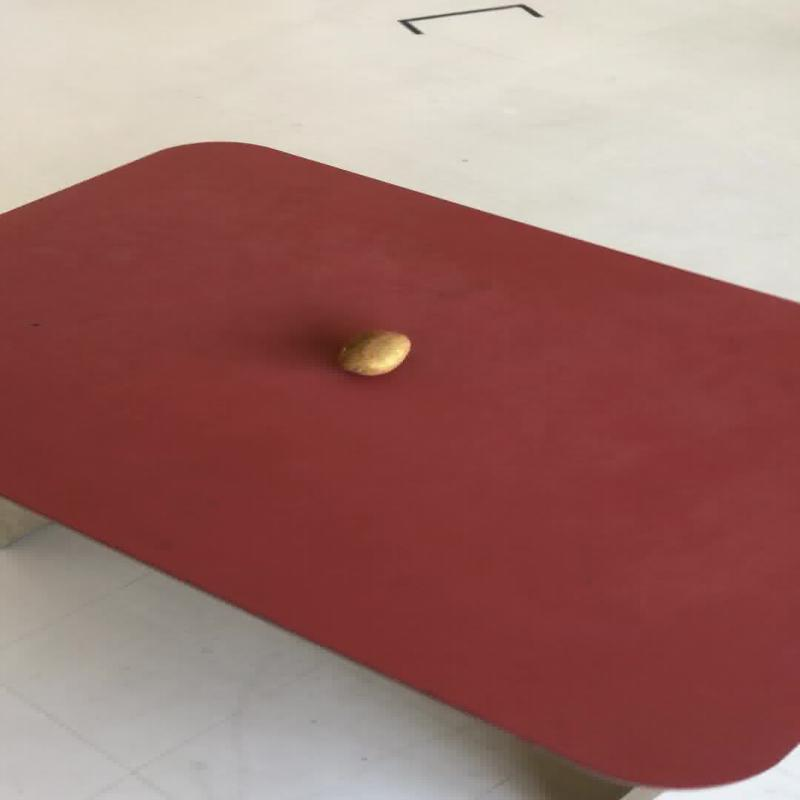kiwi: (336, 329, 412, 376)
